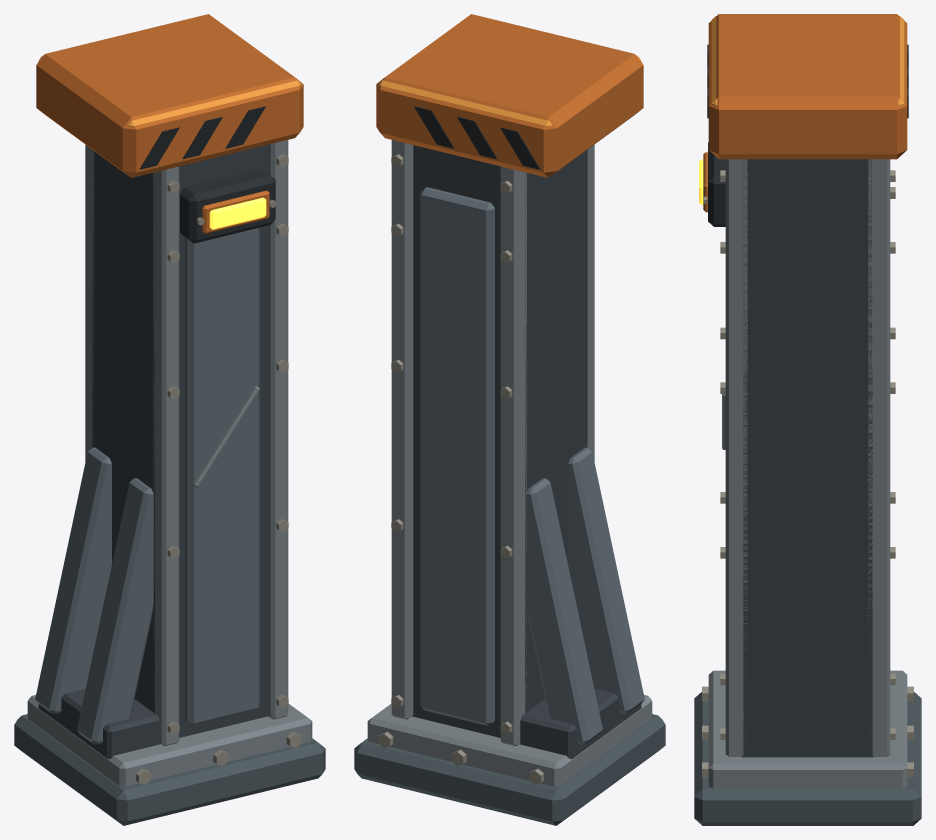
The model's file is wsc-module-003-seam-gate-post.glb.
3 views of the same model, side by side, from view 1: azimuth 30°, elevation 25°; view 2: azimuth 150°, elevation 25°; view 3: azimuth 270°, elevation 25° (orthographic). The views are drawn at different scales.
Parts seen in each view (by area): view 1: Blue steel, Rolled steel, Carbon, Burnt enamel, Cool graphite, Shadow oxide, Zinc heads, Gasket, Amber glass, Safety enamel; view 2: Blue steel, Rolled steel, Carbon, Burnt enamel, Cool graphite, Zinc heads, Gasket, Safety enamel; view 3: Carbon, Rolled steel, Burnt enamel, Cool graphite, Zinc heads, Shadow oxide, Safety enamel.
Boxes of the visible parts, x1,y1,x2,y2 form: Blue steel: (35,227,259,744); Rolled steel: (27,140,312,786); Carbon: (38,145,267,758); Burnt enamel: (36,14,303,233); Cool graphite: (14,714,325,825); Shadow oxide: (180,169,275,243); Zinc heads: (136,154,301,784); Gasket: (139,106,265,169); Amber glass: (209,197,266,229); Safety enamel: (39,55,300,127); Blue steel: (420,187,644,744); Rolled steel: (367,140,652,786); Carbon: (412,145,641,758); Burnt enamel: (376,14,643,177); Cool graphite: (354,714,665,825); Zinc heads: (378,154,543,784); Gasket: (414,106,540,169); Safety enamel: (379,55,640,127); Carbon: (742,159,873,757); Rolled steel: (708,159,907,788); Burnt enamel: (703,14,907,212); Cool graphite: (694,692,921,825); Zinc heads: (702,170,913,777); Shadow oxide: (708,142,725,226); Safety enamel: (711,16,904,106).
Bounding box in the file's own units: 1.05 × 3.33 × 0.95.
